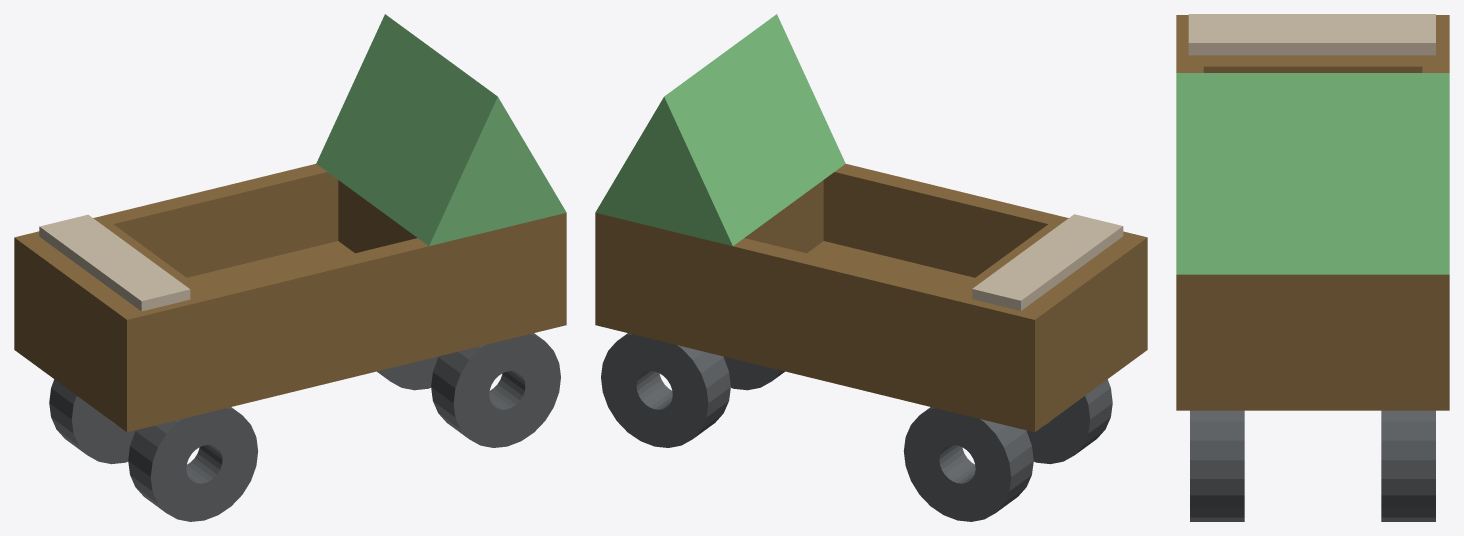
The model's file is Starter Kart.glb.
3 renders of one model, left to right at view 1: azimuth 30°, elevation 25°; view 2: azimuth 150°, elevation 25°; view 3: azimuth 270°, elevation 25°, orthographic. The views are drawn at different scales.
Parts seen in each view (by area): view 1: Mesh_Mesh_head_geo.001_lambert2SG.001; view 2: Mesh_Mesh_head_geo.001_lambert2SG.001; view 3: Mesh_Mesh_head_geo.001_lambert2SG.001.
Part boxes in pixels (x1,y1,x2,y2): Mesh_Mesh_head_geo.001_lambert2SG.001: [14, 14, 566, 521]; Mesh_Mesh_head_geo.001_lambert2SG.001: [595, 14, 1147, 521]; Mesh_Mesh_head_geo.001_lambert2SG.001: [1176, 14, 1449, 521].
Bounding box in the file's own units: 45 × 35 × 20.
